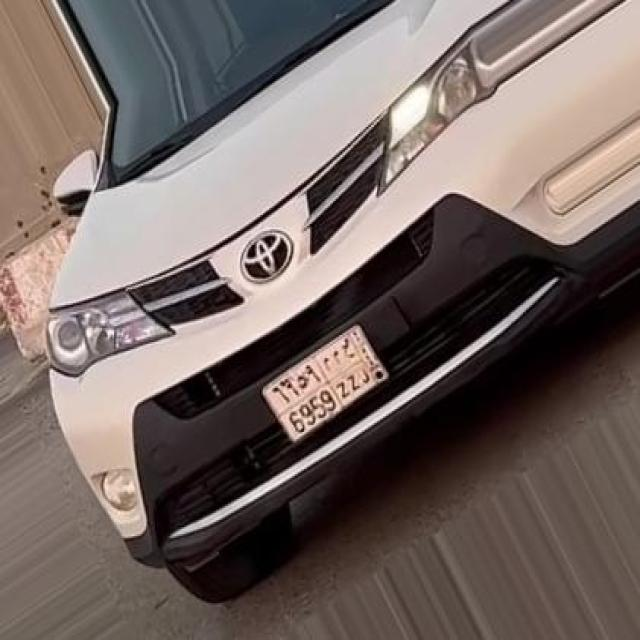Car-plate: (243, 309, 406, 455)
